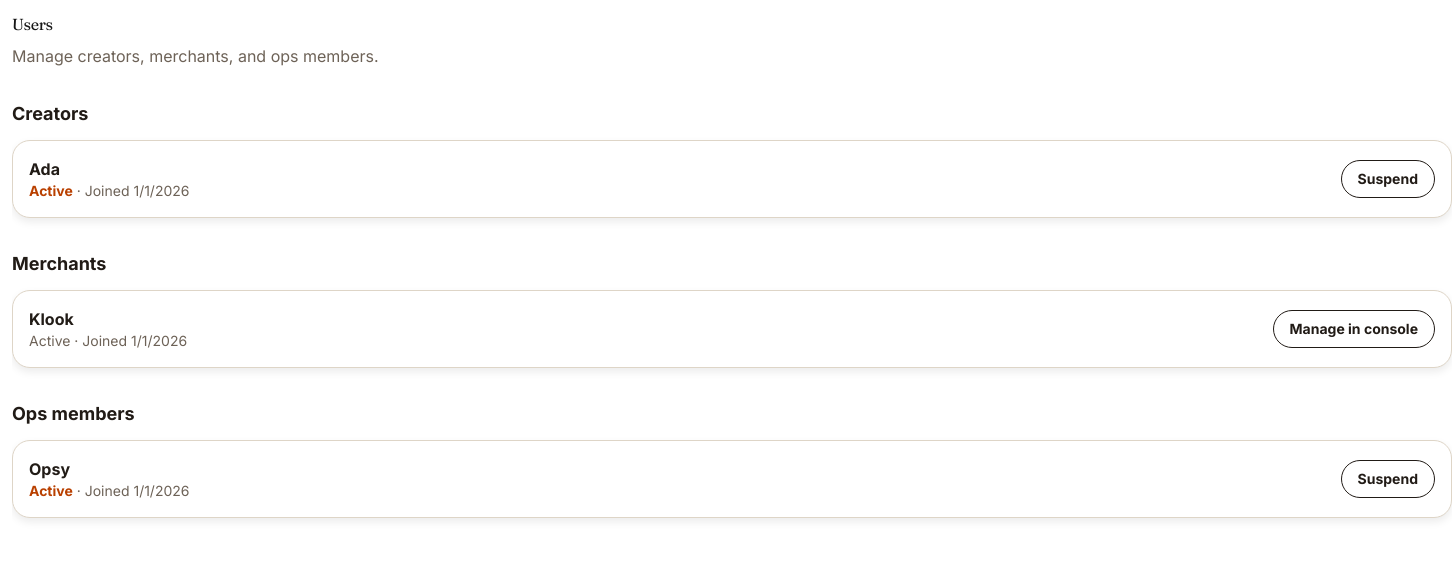
Test: AdminUsersView › shows the guard error when a suspend fails
The image size is (1452, 562).
Click the button "Suspend" in the row of "Opsy". click: coordinates (1388, 479)
box: [1341,460,1435,498]
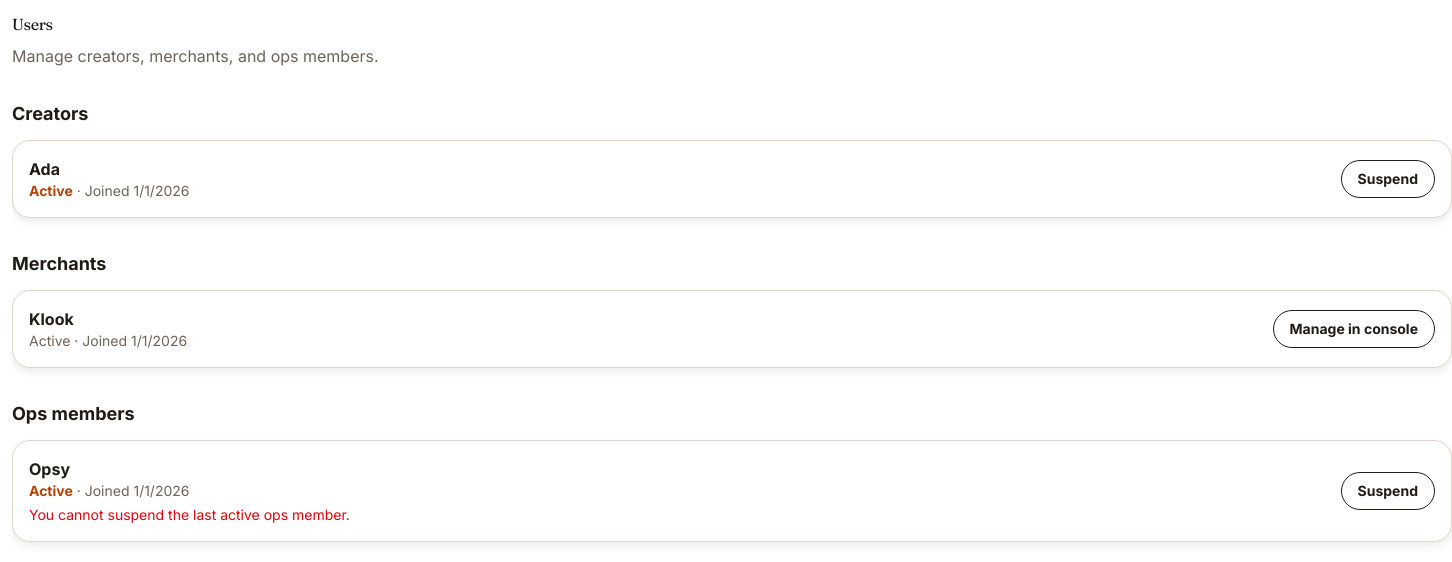
Expected: the text "You cannot suspend the last active ops member." is shown, [29,505,350,525]
